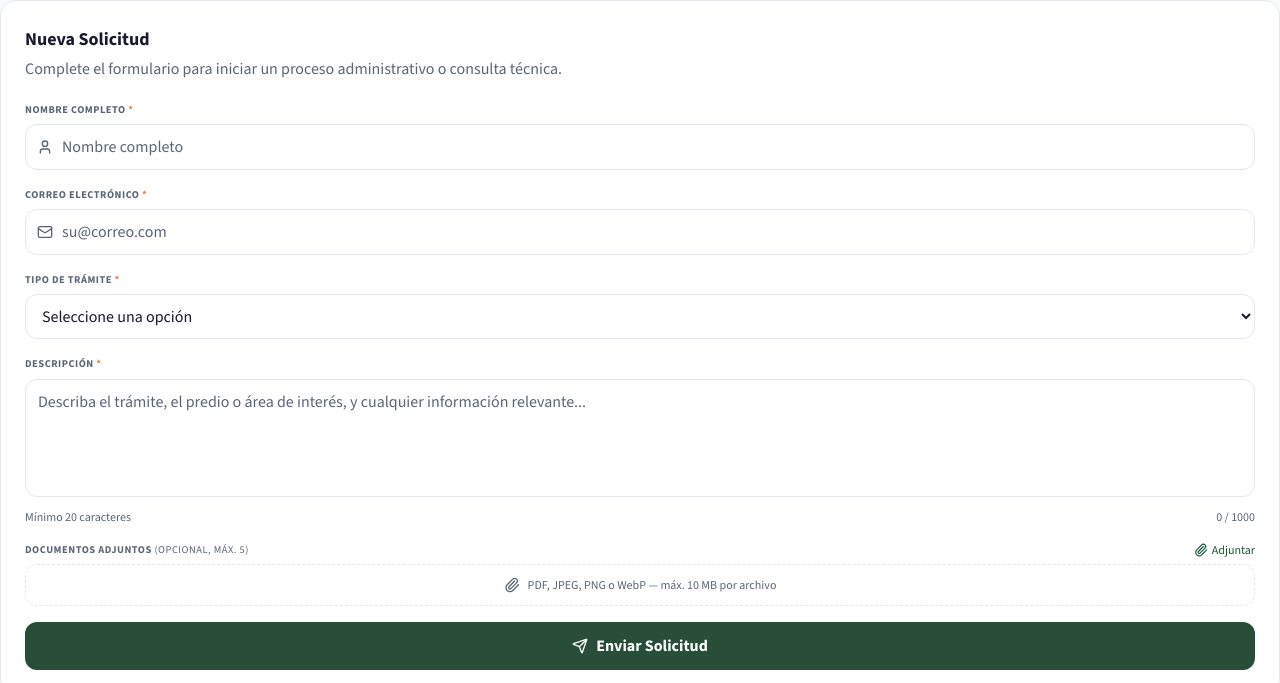
Test: NuevaSolicitudForm — validación › un correo con formato inválido muestra error específico
Type "no-es-un-correo" into the field labelled "Correo Electrónico *".
click(640, 232); type("no-es-un-correo")  # box 25,209 -> 1255,255
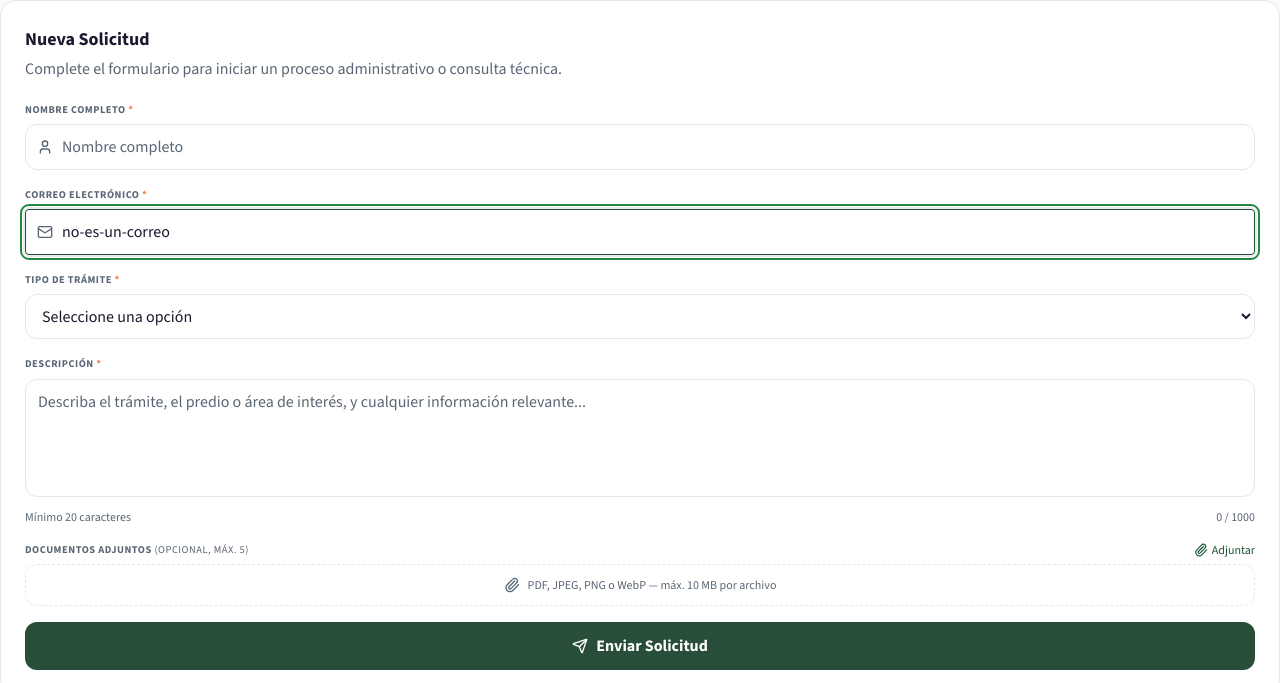
Click the button "Enviar Solicitud".
click(640, 646)  # box 25,622 -> 1255,670
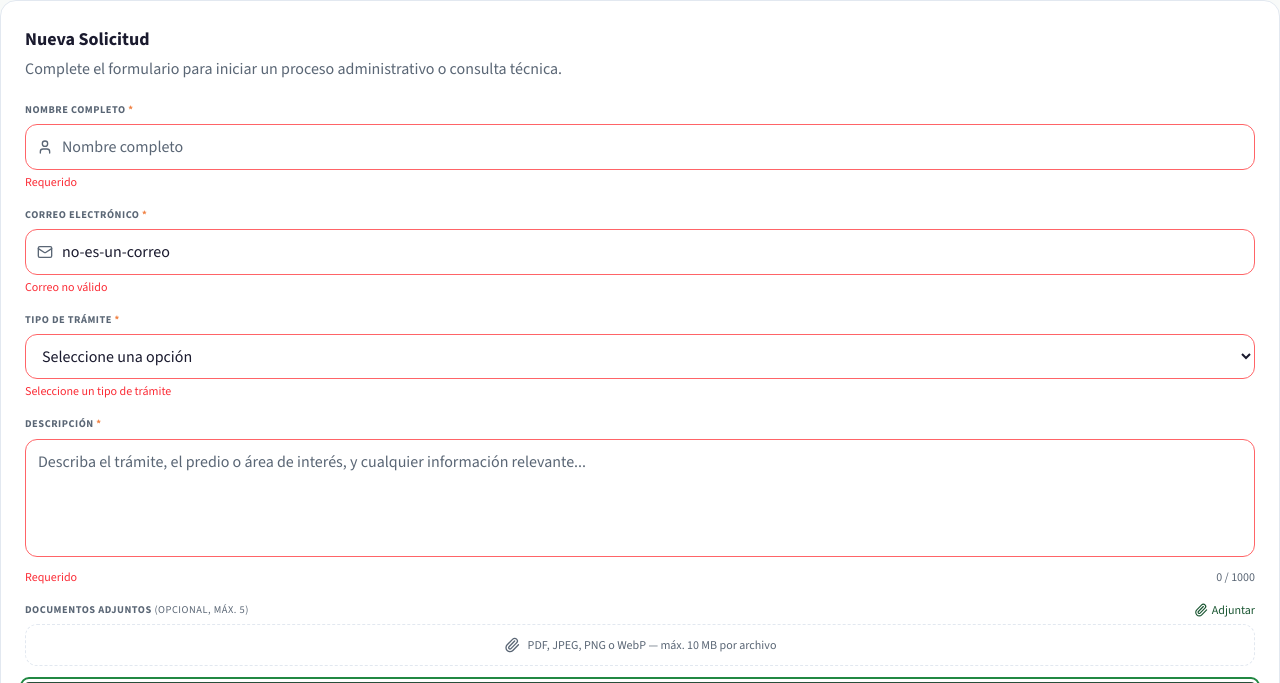
Expected: the text "Correo no válido" is shown, 25,279 -> 108,295
